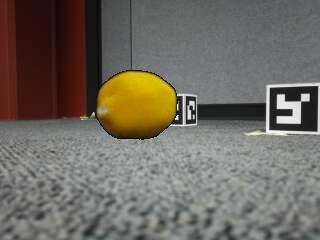lemon: (96, 71, 176, 138)
